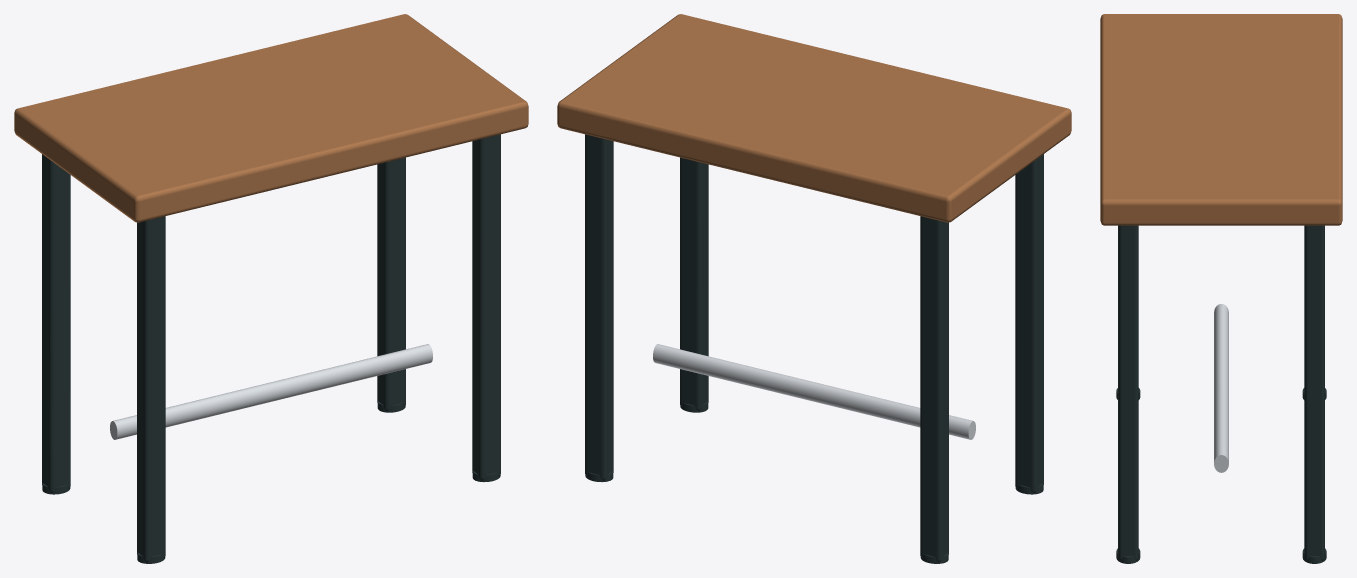
File: wp-table-haute-de-reunion.glb
3 renders of one model, left to right at view 1: azimuth 30°, elevation 25°; view 2: azimuth 150°, elevation 25°; view 3: azimuth 270°, elevation 25°, orthographic.
Parts seen in each view (by area): view 1: wp-table-haute-de-reunion; view 2: wp-table-haute-de-reunion; view 3: wp-table-haute-de-reunion.
Boxes of the visible parts, x1,y1,x2,y2 form: wp-table-haute-de-reunion: [14, 14, 528, 563]; wp-table-haute-de-reunion: [557, 14, 1071, 563]; wp-table-haute-de-reunion: [1100, 14, 1342, 563].
Bounding box in the file's own units: 1.2 × 1.1 × 0.65.
